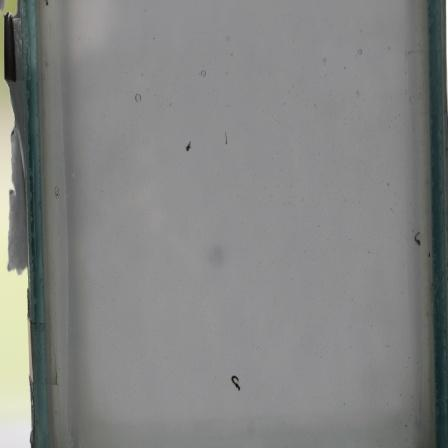Jentik-Nyamuk: (228, 372, 243, 397), (411, 227, 424, 248), (182, 136, 194, 156), (222, 128, 231, 148)
